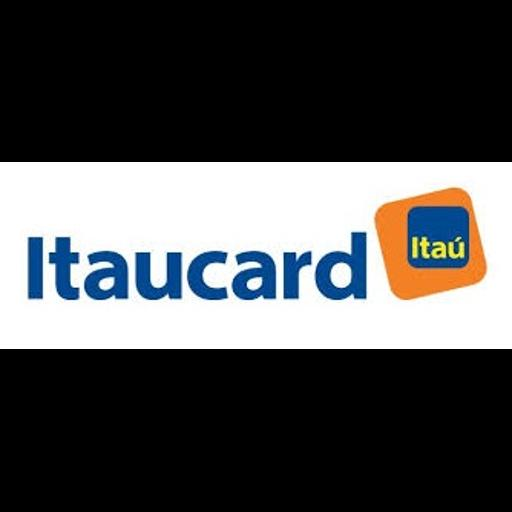Itau Unibanco S-A: (0, 162, 512, 349)
